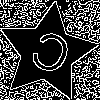C: (22, 27, 76, 86)
